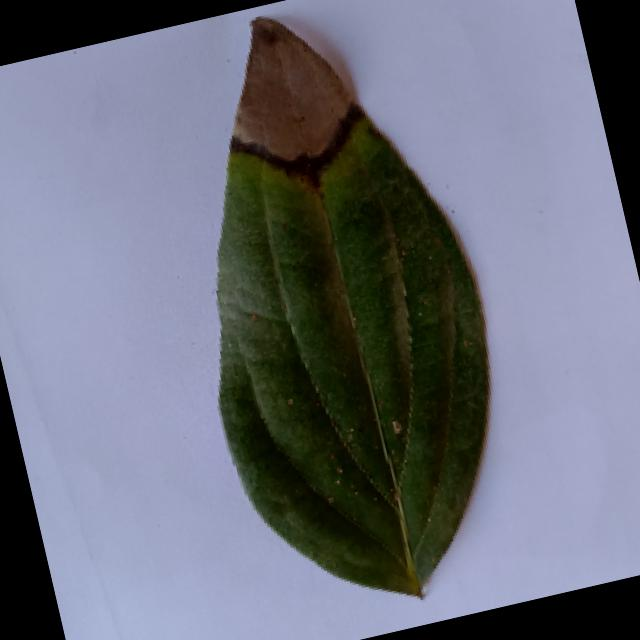footrot: (131, 0, 548, 627)
